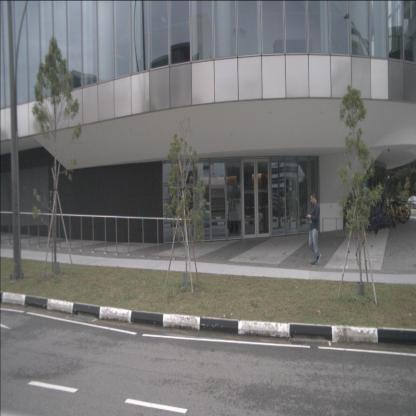human-pedestrian-adult: (306, 192, 321, 268)
vehicle-car: (407, 195, 416, 209)
